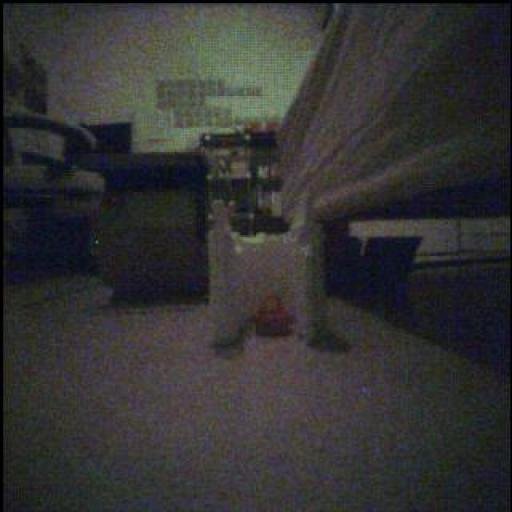basket: (255, 295, 294, 337)
